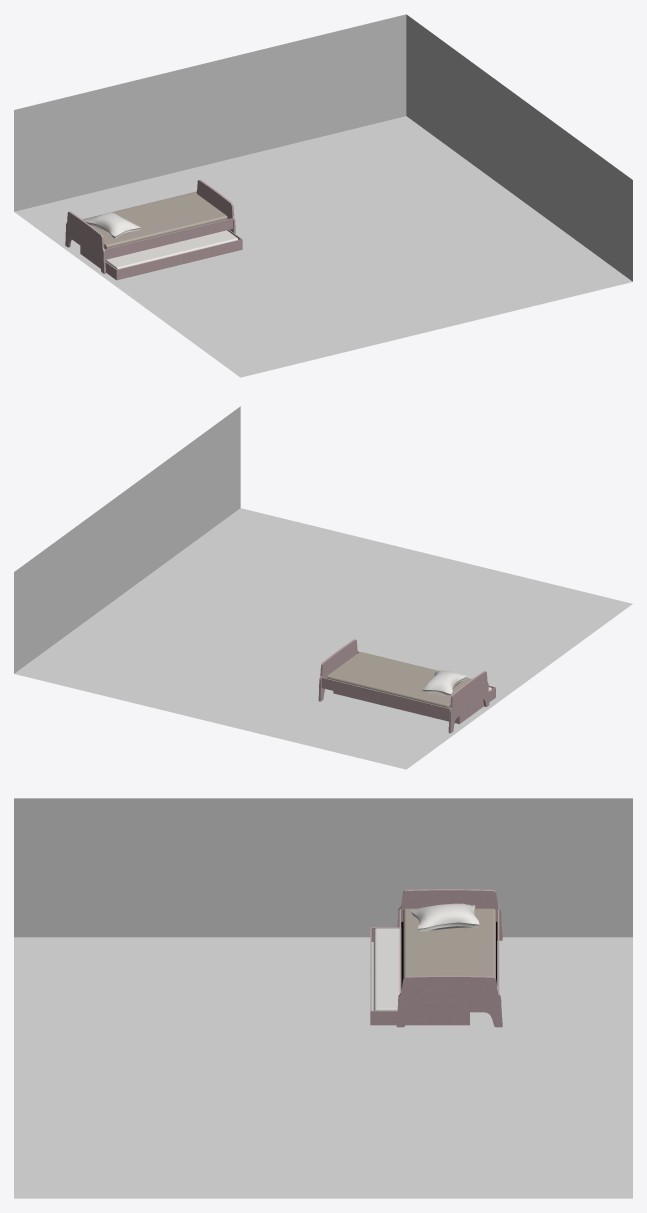
File: vintage-bed_test.gltf
3 views of the same model, one above another, from view 1: azimuth 30°, elevation 25°; view 2: azimuth 150°, elevation 25°; view 3: azimuth 270°, elevation 25° (orthographic). The views are drawn at different scales.
Parts seen in each view (by area): view 1: Plane, bed-mattress, bed-structure, divan, divan-mattress, pillow; view 2: Plane, bed-mattress, bed-structure, pillow, divan; view 3: Plane, bed-structure, bed-mattress, divan-mattress, divan, pillow.
Boxes of the visible parts, box(x1,y1,x2,y2) form: Plane: box(14, 14, 632, 377); bed-mattress: box(82, 192, 227, 248); bed-structure: box(65, 179, 235, 273); divan: box(80, 229, 242, 280); divan-mattress: box(105, 230, 238, 269); pillow: box(85, 212, 140, 238); Plane: box(14, 406, 632, 769); bed-mattress: box(326, 652, 471, 708); bed-structure: box(318, 639, 489, 733); pillow: box(421, 670, 467, 696); divan: box(333, 685, 495, 724); Plane: box(14, 798, 632, 1198); bed-structure: box(396, 889, 502, 1027); bed-mattress: box(403, 908, 495, 977); divan-mattress: box(373, 928, 401, 1010); divan: box(370, 927, 469, 1025); pillow: box(411, 903, 479, 931).
Bounding box in the file's own units: 600 × 149 × 600.
7 materials, 2 textured.
